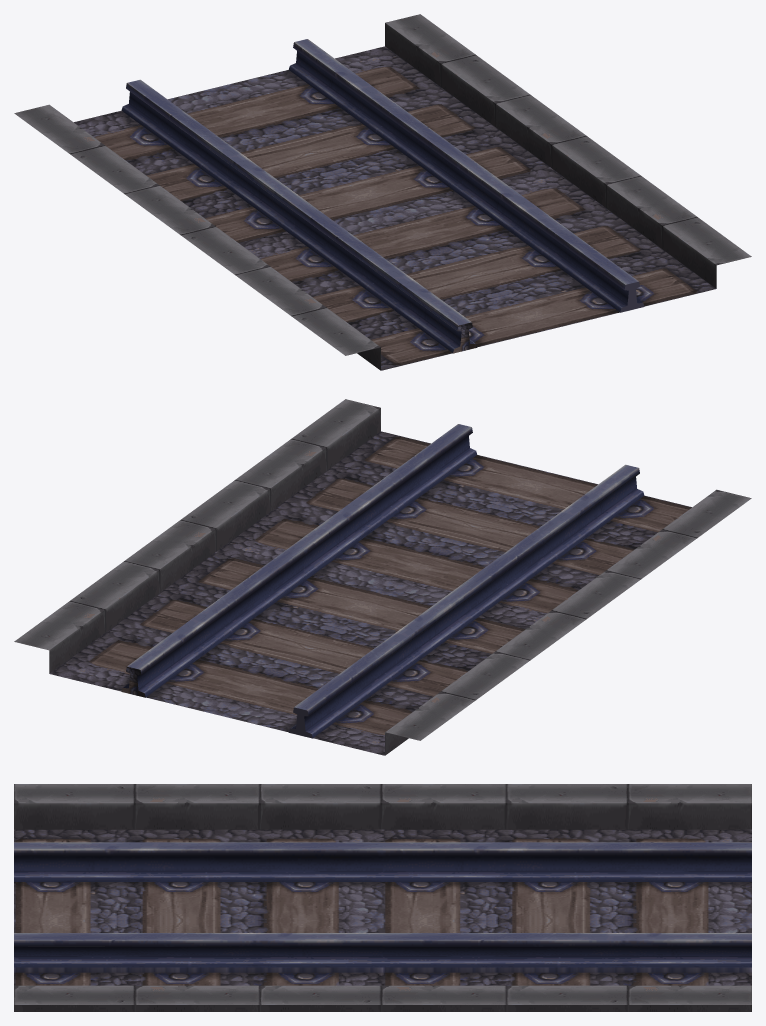
Rendered from hbxz_road005_02.FBX.
The picture shows the model from 3 angles, top to bottom: view 1: azimuth 30°, elevation 25°; view 2: azimuth 150°, elevation 25°; view 3: azimuth 270°, elevation 25°; orthographic projection. The views are drawn at different scales.
Parts seen in each view (by area): view 1: hbxz_road005_02; view 2: hbxz_road005_02; view 3: hbxz_road005_02.
Part boxes in pixels (<box>): hbxz_road005_02: <box>14,14,751,370</box>; hbxz_road005_02: <box>14,399,751,755</box>; hbxz_road005_02: <box>14,784,751,1011</box>.
Size of the model in its own units: 495 by 31.08 by 699.
Materials: 2 (2 with a texture image).
